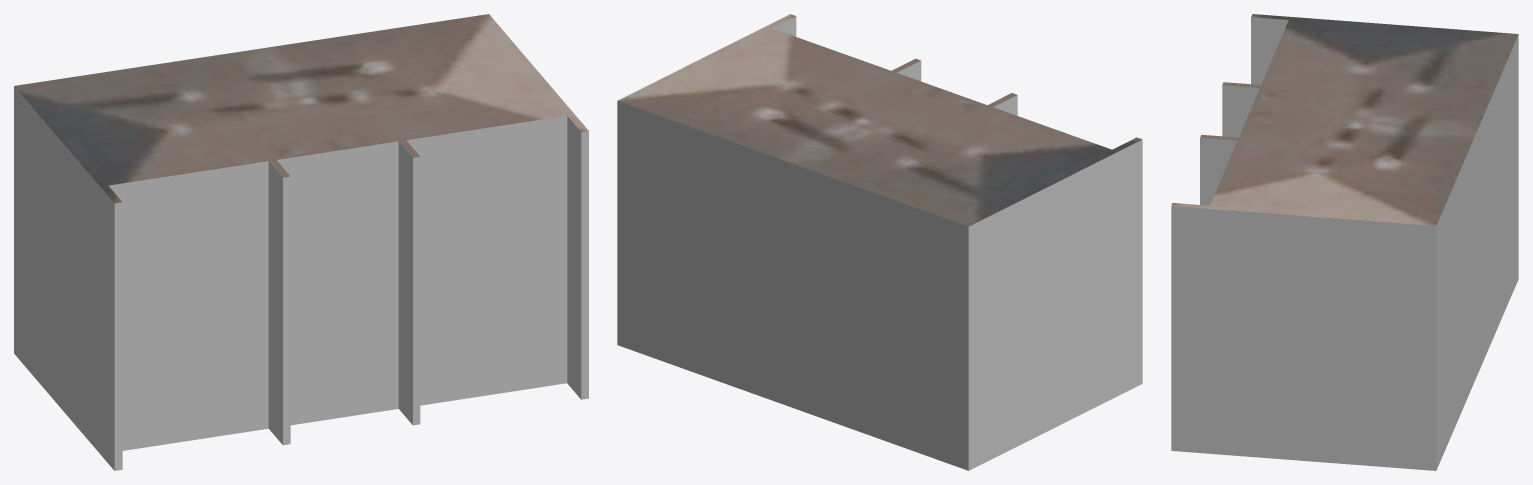
The model's file is DEBW_0010007TxhB.gltf.
3 views of the same model, side by side, from view 1: azimuth 30°, elevation 25°; view 2: azimuth 150°, elevation 25°; view 3: azimuth 270°, elevation 25° (orthographic). The views are drawn at different scales.
Parts seen in each view (by area): view 1: Z_UP; view 2: Z_UP; view 3: Z_UP.
Boxes of the visible parts, x1,y1,x2,y2 form: Z_UP: (14,14,588,470); Z_UP: (617,14,1142,470); Z_UP: (1171,14,1518,470).
Size of the model in its own units: 22.41 by 12.07 by 15.52.
2 materials, 1 textured.
